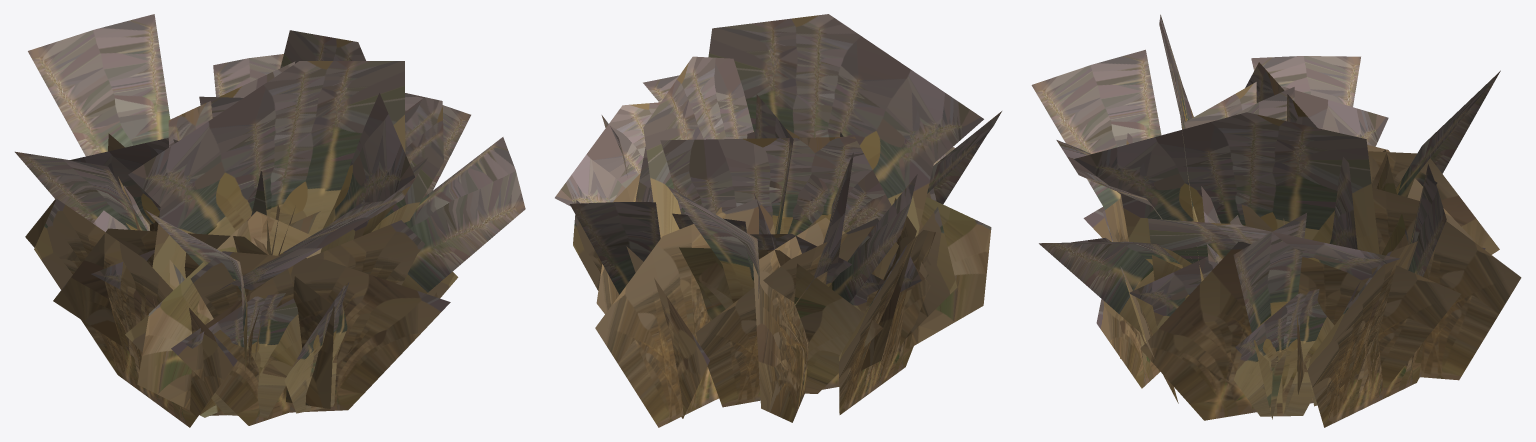
Rendered from SM_Wheat_01a_Golden.fbx.
3 views of the same model, side by side, from view 1: azimuth 30°, elevation 25°; view 2: azimuth 150°, elevation 25°; view 3: azimuth 270°, elevation 25° (orthographic). The views are drawn at different scales.
Visible parts, largest first — view 1: SM_Wheat_01a_Golden_LOD0; view 2: SM_Wheat_01a_Golden_LOD0; view 3: SM_Wheat_01a_Golden_LOD0.
Boxes of the visible parts, bbox=[...] form: SM_Wheat_01a_Golden_LOD0: bbox=[15, 14, 525, 427]; SM_Wheat_01a_Golden_LOD0: bbox=[555, 14, 1001, 427]; SM_Wheat_01a_Golden_LOD0: bbox=[1031, 14, 1521, 427].
Size of the model in its own units: 84.86 by 93.84 by 73.33.
